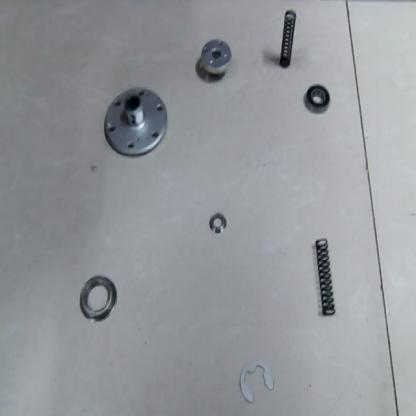FOD: (102, 84, 170, 159), (313, 234, 339, 320), (78, 273, 120, 326), (196, 35, 235, 80), (277, 8, 300, 73), (303, 82, 332, 115), (210, 214, 227, 234)
